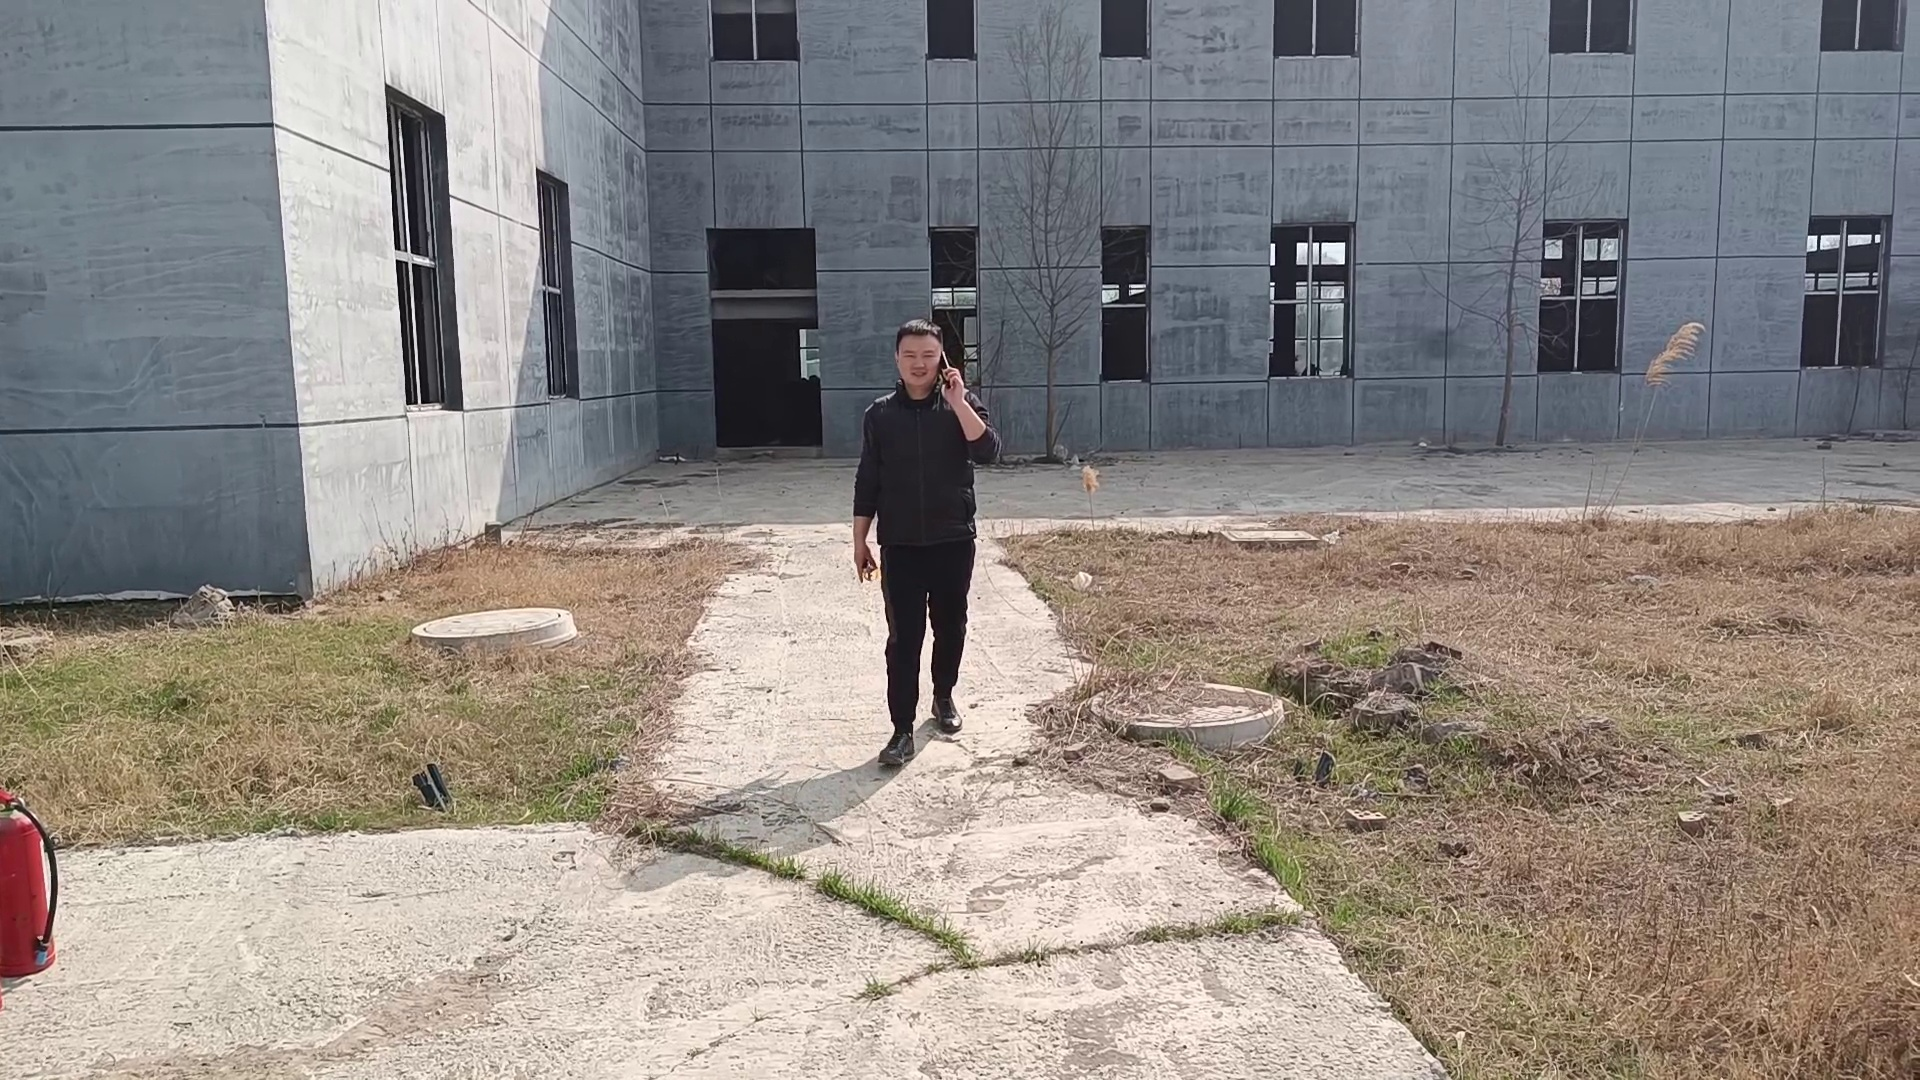phone: (886, 316, 968, 419)
